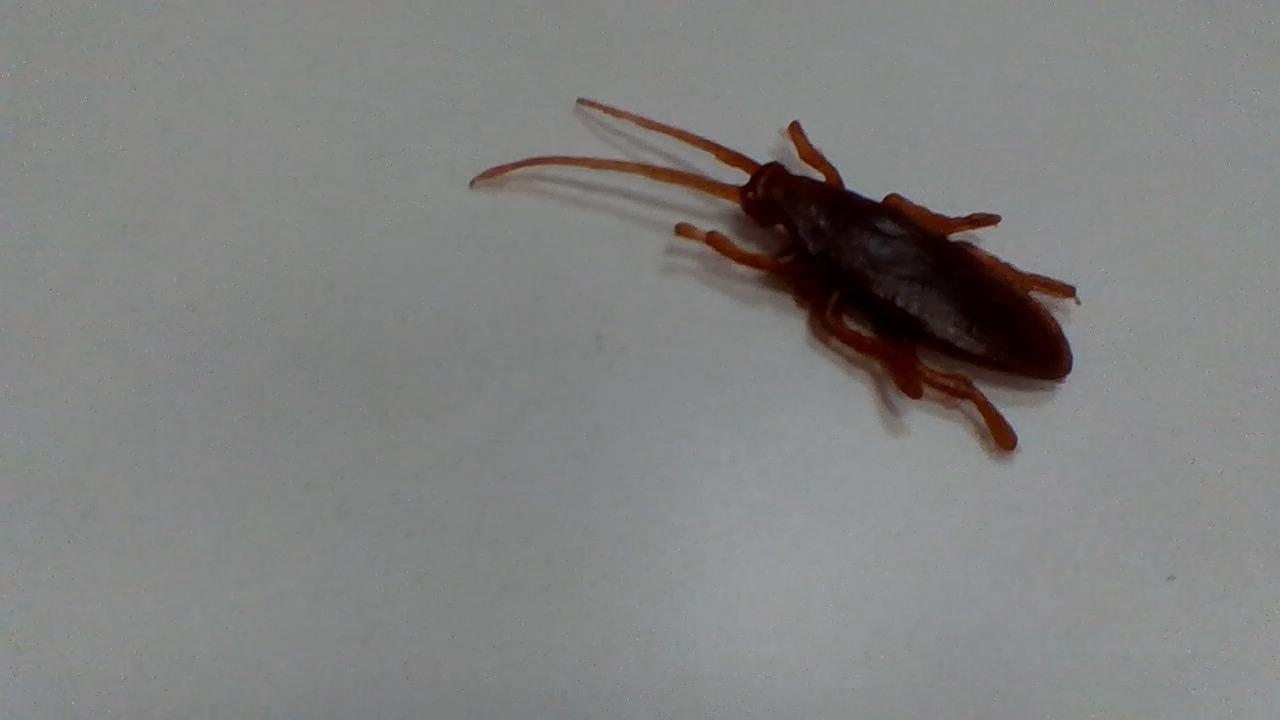cockroach: (452, 97, 1089, 461)
